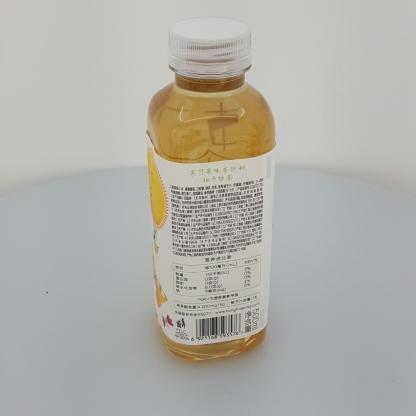------------: (146, 17, 276, 361)
